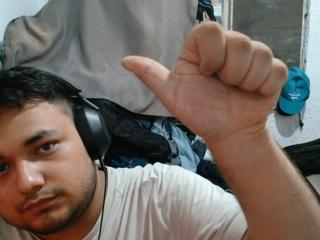Derecha: (113, 17, 296, 144)
